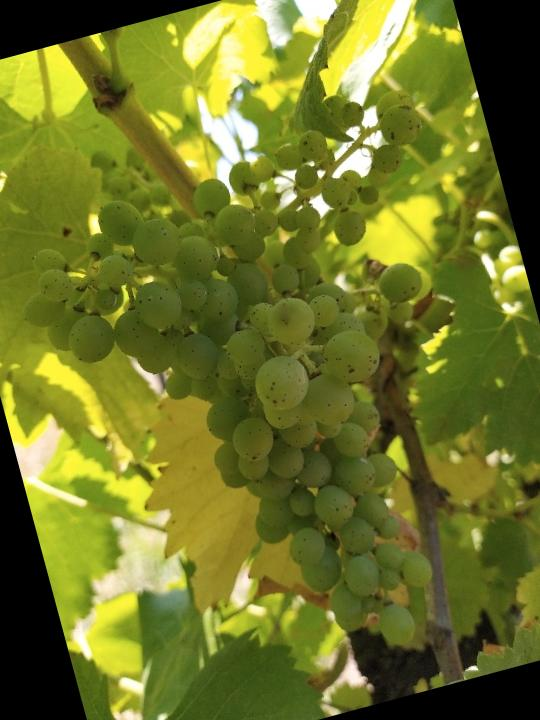grape: (0, 74, 540, 720)
